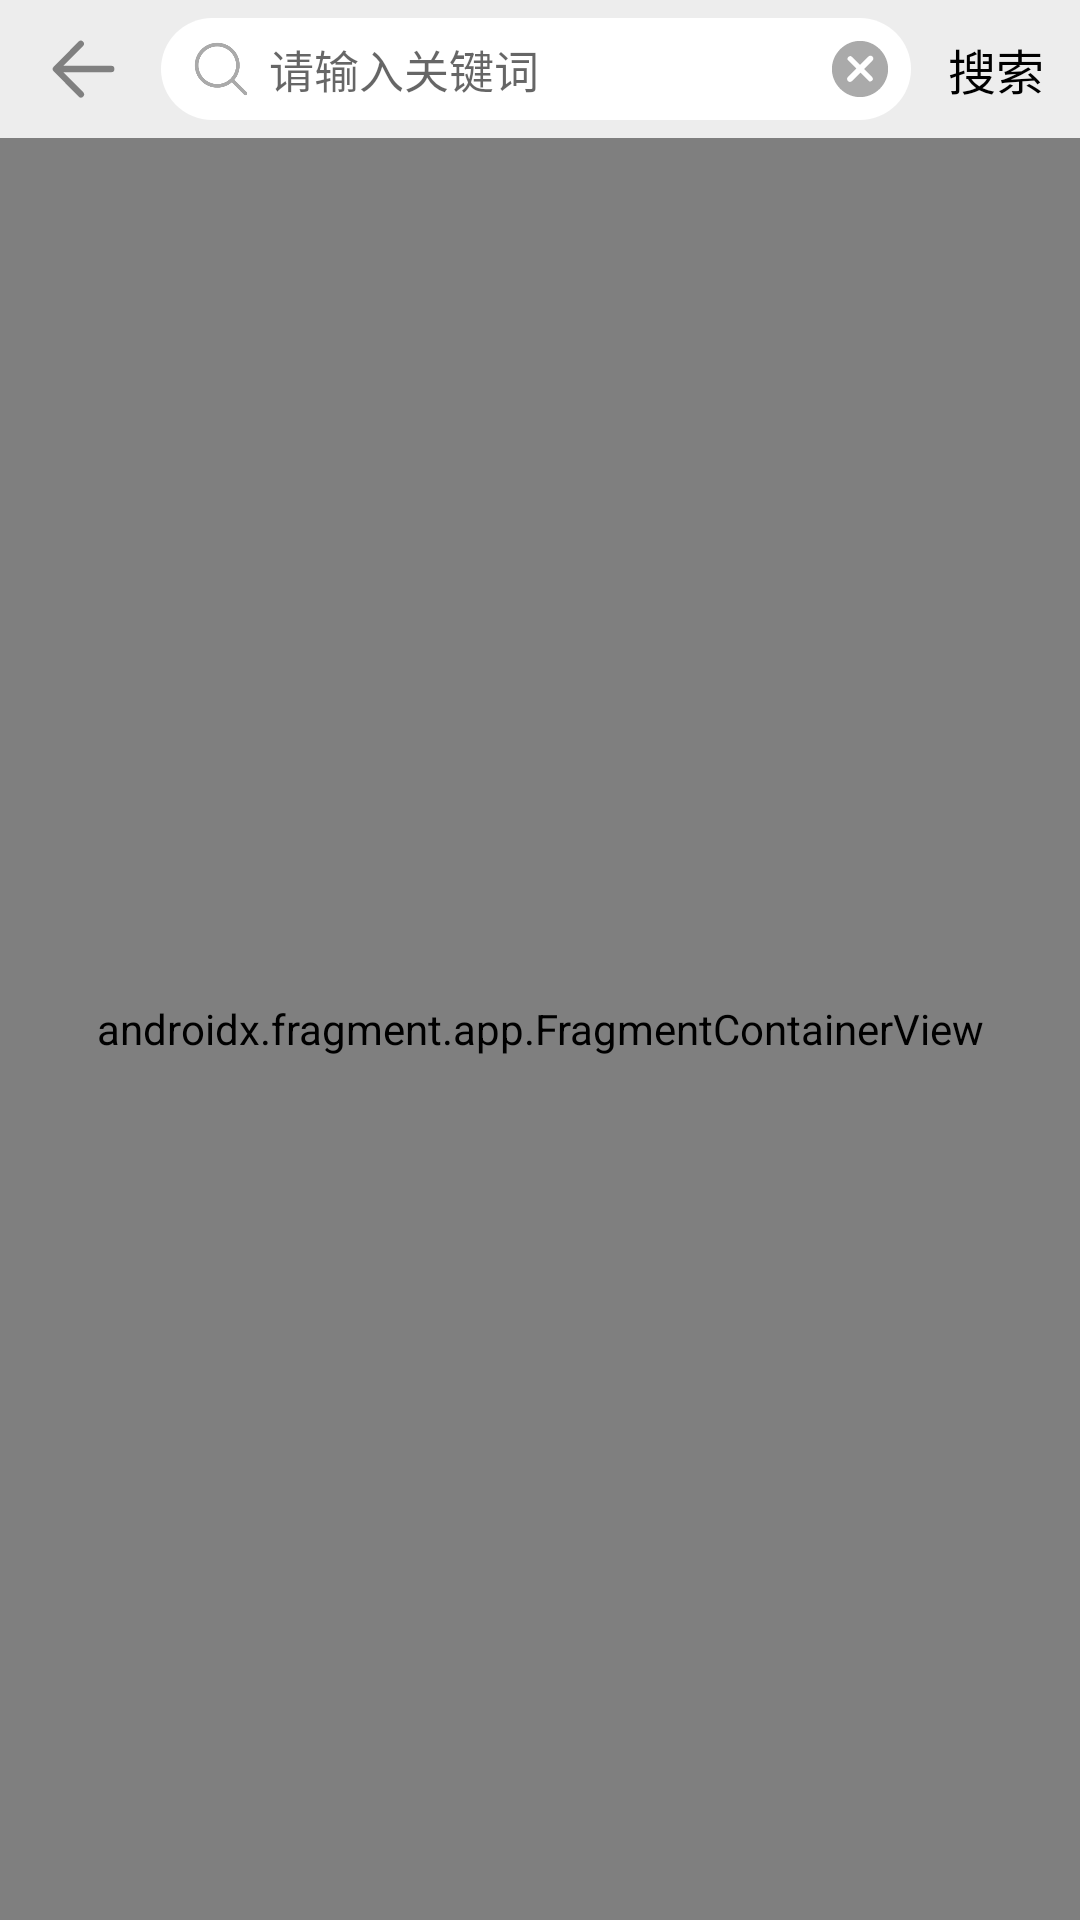

Icon bounding boxes for this 1080w x 1920h phone screenshot, format BBox(x1, y1, x2, y2):
back: BBox(52, 40, 115, 98)
clear: BBox(832, 41, 888, 97)
query: BBox(195, 43, 247, 95)
